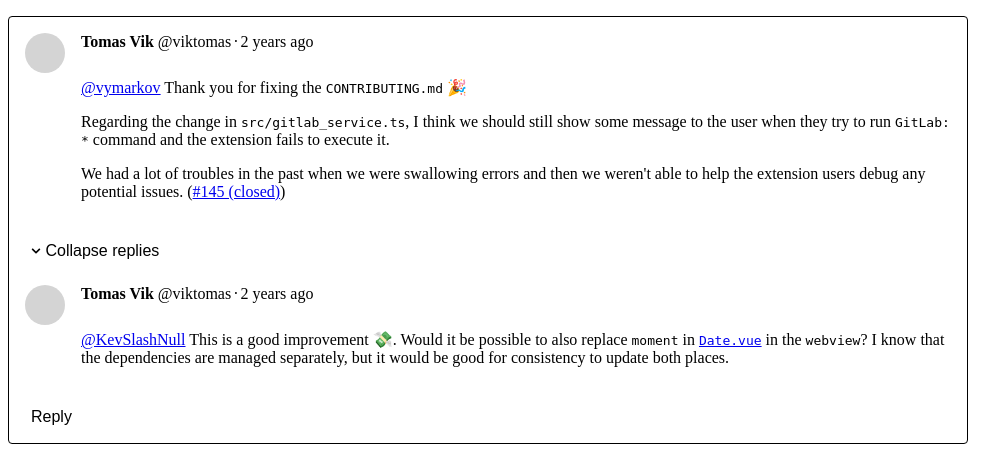
Test: Discussion › with multiple comments › collapsing and uncollapsing › hides reply button and second message when we collapse replies
What coordinates should you click on to do the following:
click the button with class "js-collapse"
I would click on:
 (95, 251)
Its box is [25,241,165,261].
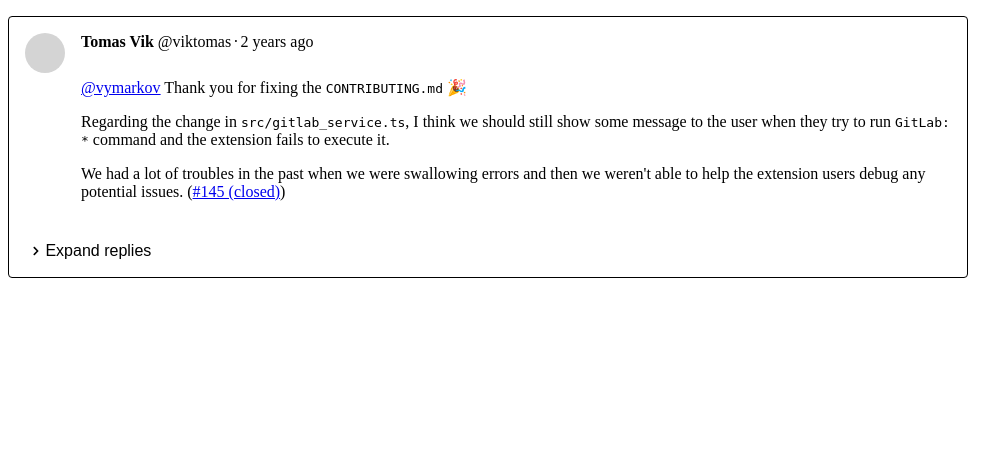
Expected: the text "I know that the dependencies are managed separately, but it would" is gone
Expected: the button with class "js-reply" is gone
